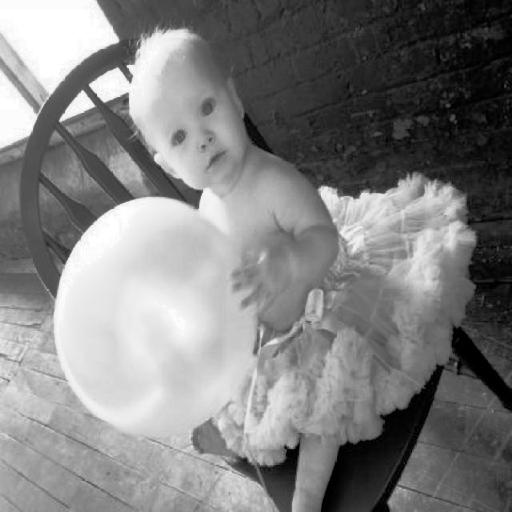balloon: (41, 194, 268, 444)
